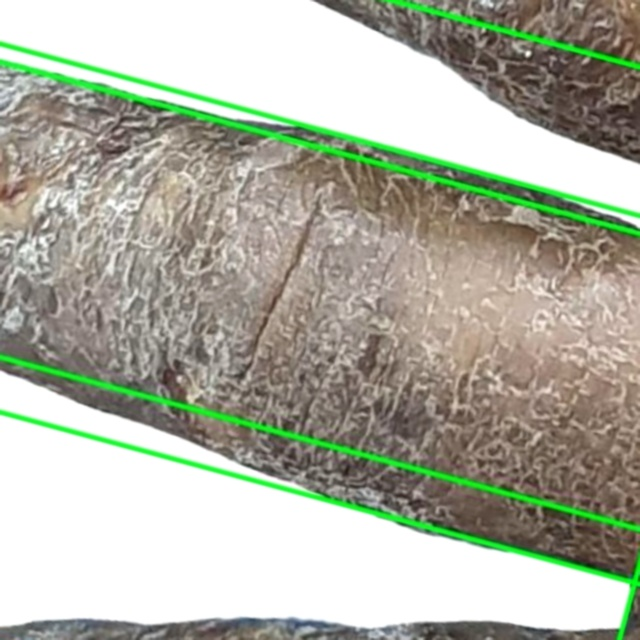Eczema: (0, 45, 639, 585), (0, 0, 639, 233)
